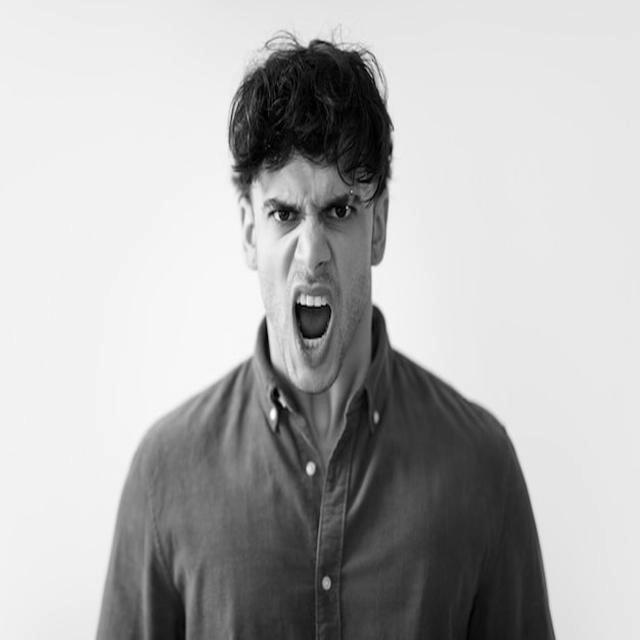Angry: (252, 147, 373, 394)
